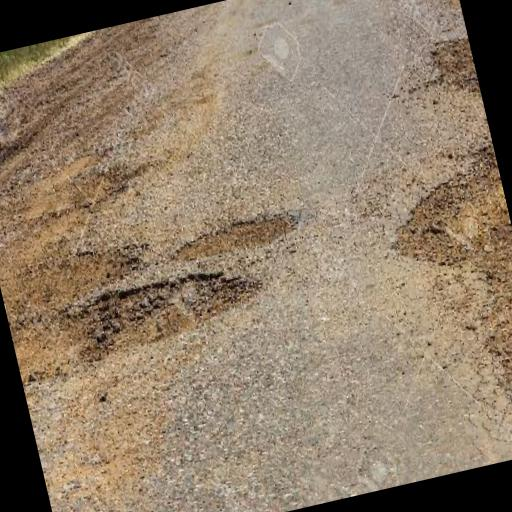pothole: (60, 254, 270, 374), (372, 140, 512, 296), (168, 203, 304, 268), (424, 30, 482, 105)
